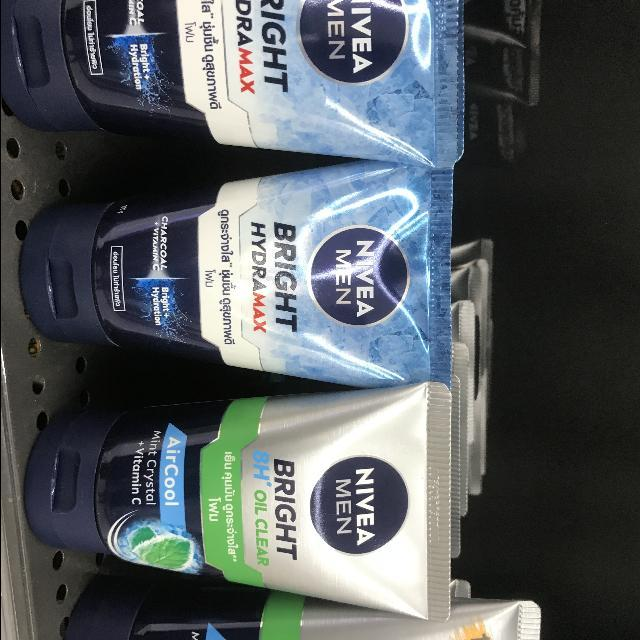Squeeze Tube: (16, 385, 451, 620), (19, 158, 451, 386), (0, 2, 465, 164)
